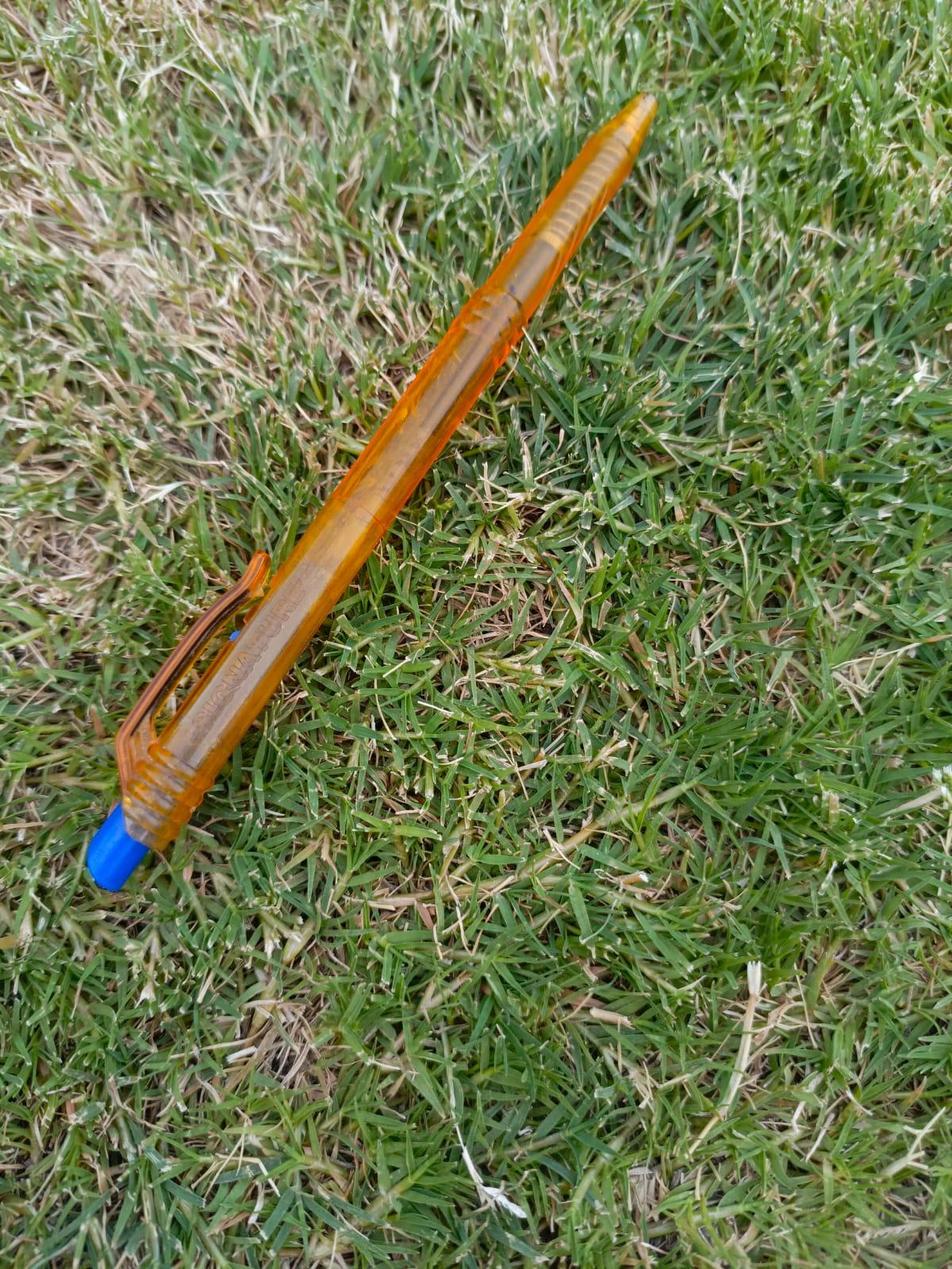ballpoint3: (86, 266, 516, 887), (503, 129, 616, 315)
